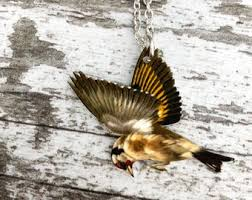hsparrow: (69, 44, 235, 181)
